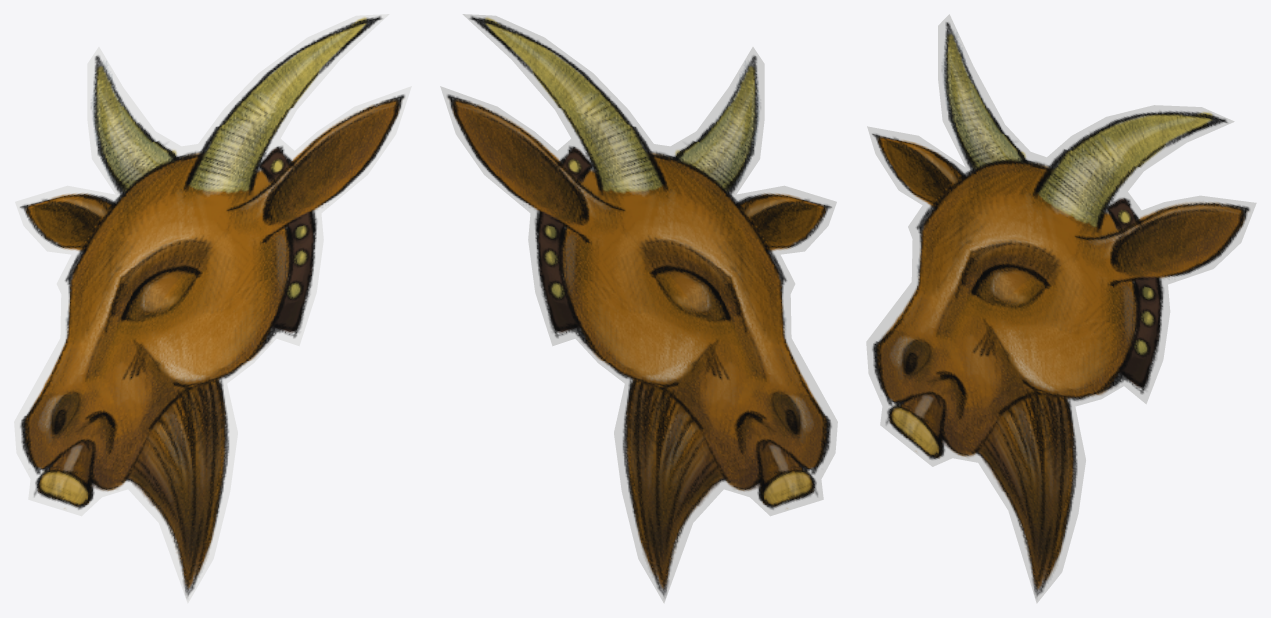
3 renders of one model, left to right at view 1: azimuth 30°, elevation 25°; view 2: azimuth 150°, elevation 25°; view 3: azimuth 330°, elevation 25°, orthographic.
Parts seen in each view (by area): view 1: Plane; view 2: Plane; view 3: Plane.
Boxes of the visible parts, x1,y1,x2,y2 form: Plane: (14, 14, 411, 603); Plane: (440, 14, 837, 603); Plane: (866, 14, 1256, 603).
Bounding box in the file's own units: 5.74 × 7.98 × 0.
Materials: 1 (1 with a texture image).
